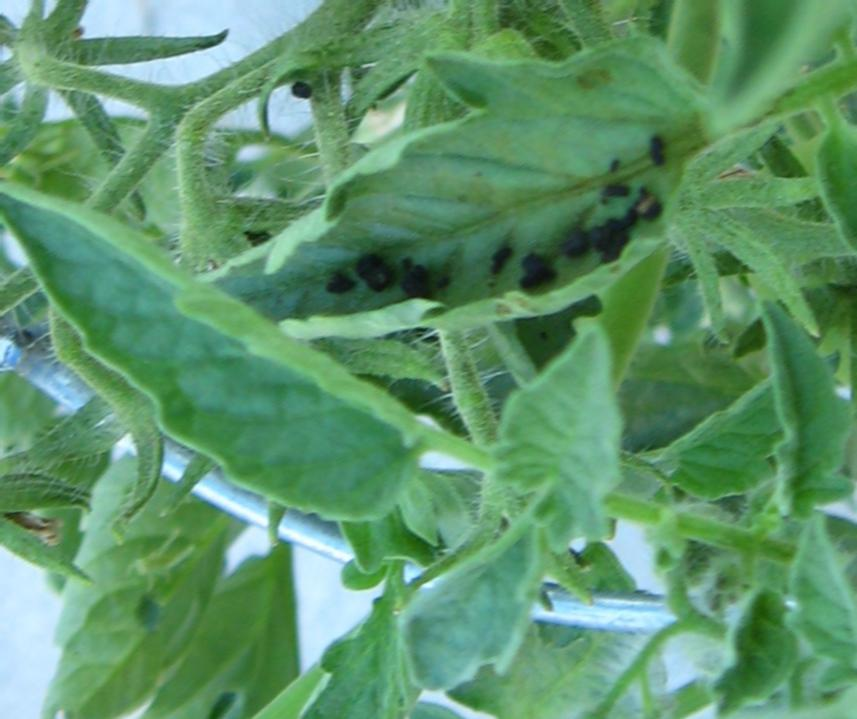Tomato leaf: (0, 176, 448, 509)
